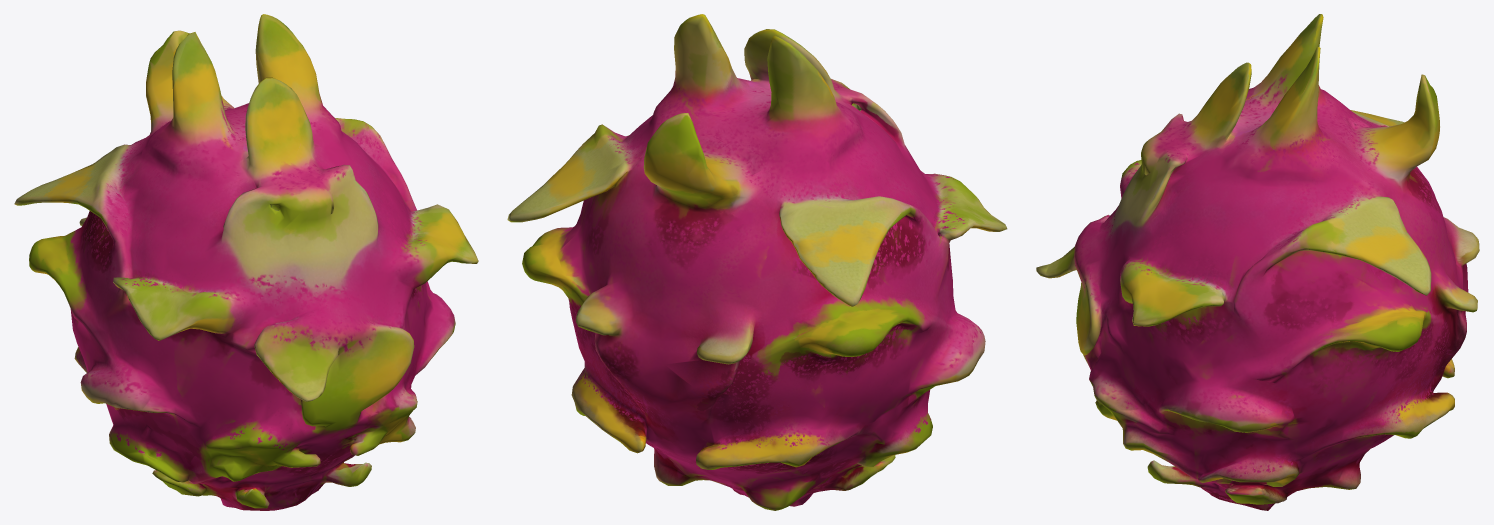
File: dragonfruitHQ.fbx
3 renders of one model, left to right at view 1: azimuth 30°, elevation 25°; view 2: azimuth 150°, elevation 25°; view 3: azimuth 270°, elevation 25°, orthographic. The views are drawn at different scales.
Visible parts, largest first — view 1: dragonfruit; view 2: dragonfruit; view 3: dragonfruit.
Part boxes in pixels (<box>): dragonfruit: <box>14,14,478,510</box>; dragonfruit: <box>507,14,1007,510</box>; dragonfruit: <box>1036,14,1479,510</box>.
Bounding box in the file's own units: 8.05 × 10 × 8.56.
